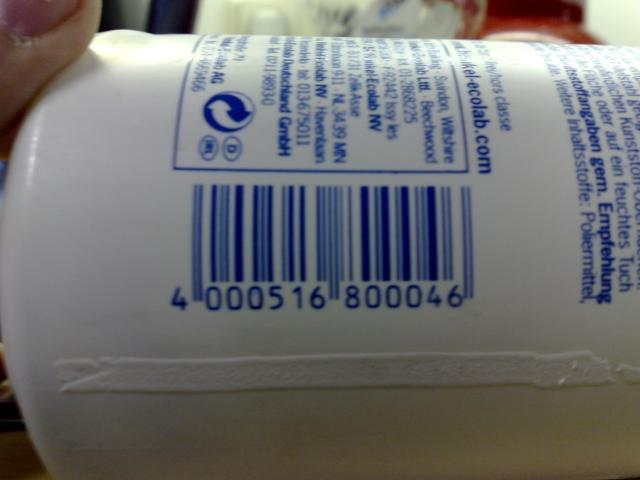Barcode: (153, 175, 497, 322)
